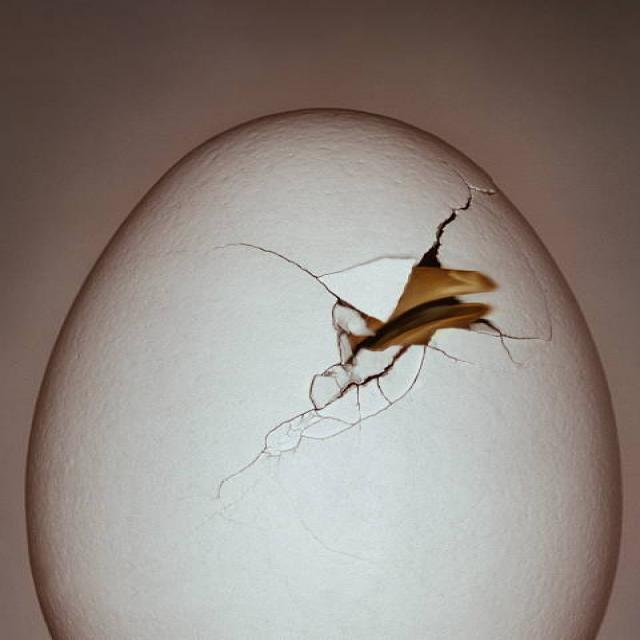biodegradable: (26, 99, 622, 640)
